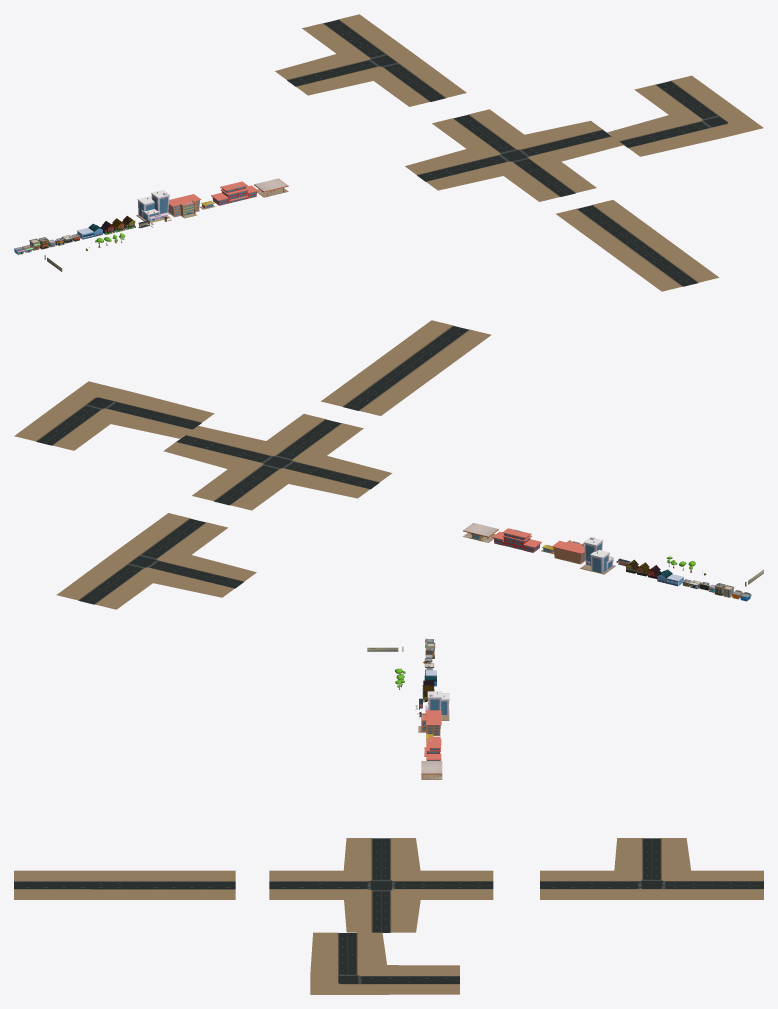
File: City_assets_01.fbx
The picture shows the model from 3 angles, top to bottom: view 1: azimuth 30°, elevation 25°; view 2: azimuth 150°, elevation 25°; view 3: azimuth 270°, elevation 25°; orthographic projection. The views are drawn at different scales.
Visible parts, largest first — view 1: Road1, Road, Road3, Road2, Hospatal, Police_station, school; view 2: Road1, Road, Road3, Road2, Hospatal, Police_station, school; view 3: Road1, Road, Road3, Road2.
Boxes of the visible parts, x1,y1,x2,y2 form: Road1: (405, 109, 623, 201); Road: (275, 14, 466, 106); Road3: (607, 75, 763, 156); Road2: (556, 200, 718, 291); Hospatal: (136, 190, 170, 222); Police_station: (211, 181, 258, 205); school: (168, 194, 201, 218); Road1: (163, 414, 392, 510); Road: (56, 513, 256, 609); Road3: (14, 381, 214, 450); Road2: (321, 320, 491, 415); Hospatal: (580, 537, 615, 574); Police_station: (492, 528, 541, 552); school: (551, 540, 585, 564); Road1: (269, 838, 493, 932); Road: (540, 838, 763, 899); Road3: (310, 932, 459, 994); Road2: (14, 870, 235, 899).
Bounding box in the file's own units: 152 × 5.21 × 137.
